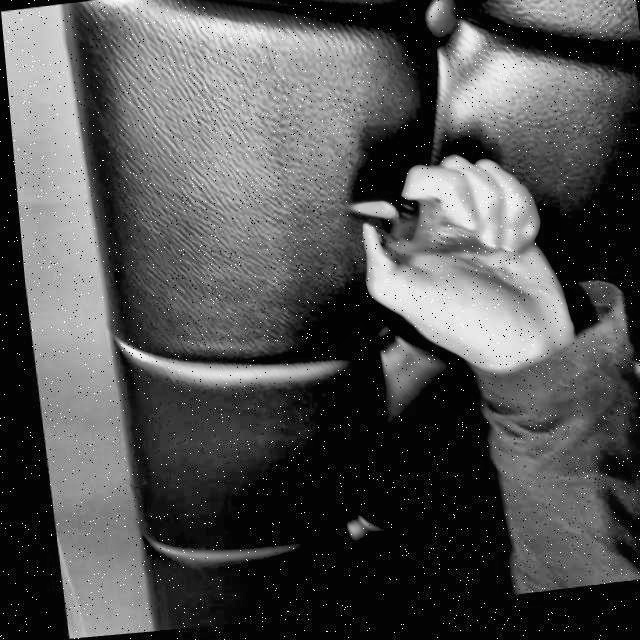Fire: (343, 203, 392, 231)
